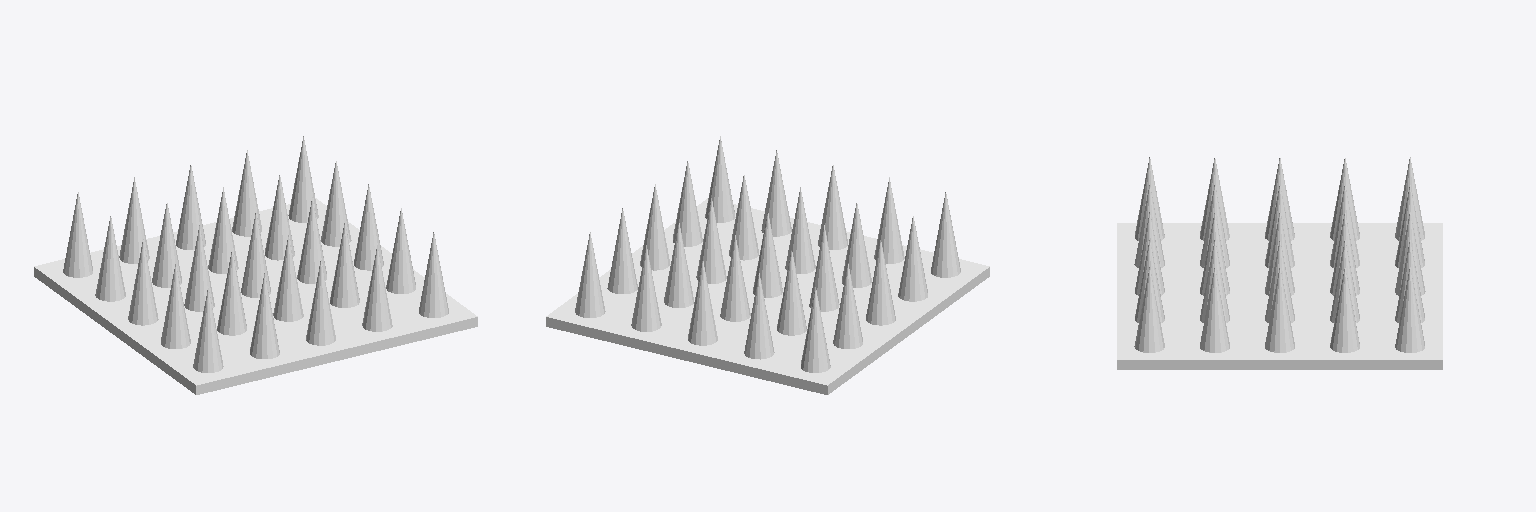
The model's file is picosModernos.obj.
3 views of the same model, side by side, from view 1: azimuth 30°, elevation 25°; view 2: azimuth 150°, elevation 25°; view 3: azimuth 270°, elevation 25° (orthographic).
Visible parts, largest first — view 1: OPM0042; view 2: OPM0042; view 3: OPM0042.
Part boxes in pixels (x1,y1,x2,y2): OPM0042: (34, 136, 477, 394); OPM0042: (546, 136, 989, 394); OPM0042: (1117, 157, 1442, 369).
Size of the model in its own units: 9.89 by 3.05 by 9.89.